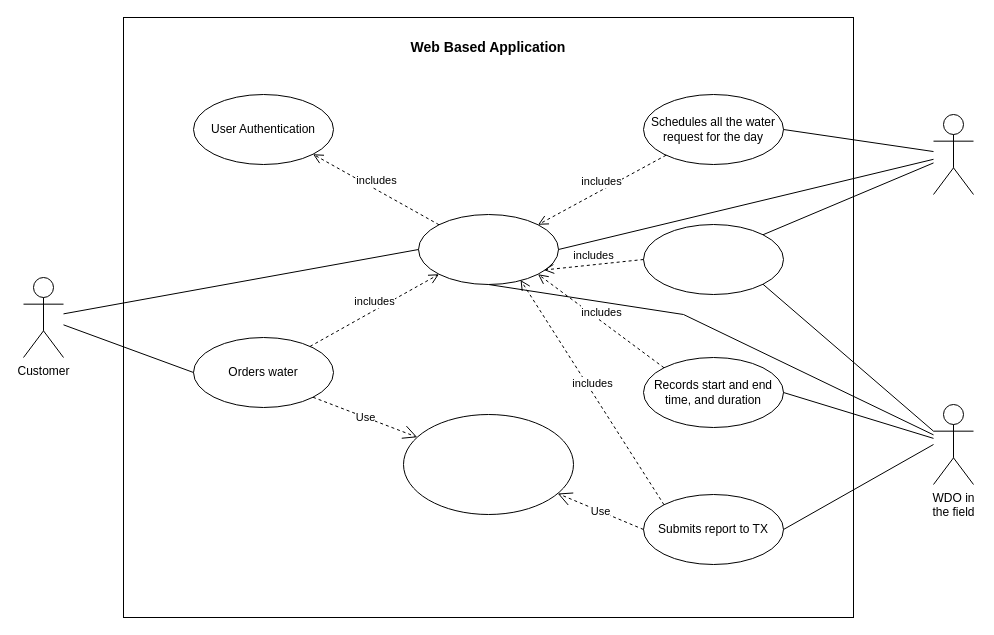
Some shapes in this 994 by 635 pixel diagram are drawn without their labels. The centre of each missing label's shape, as x and y in pixels:
Logs in to website: point (488, 249)
Order is placed into mainframe (TX) as a water request: point (488, 464)
Views and edits the schedule: point (713, 259)
WDO in the office: point (953, 154)
